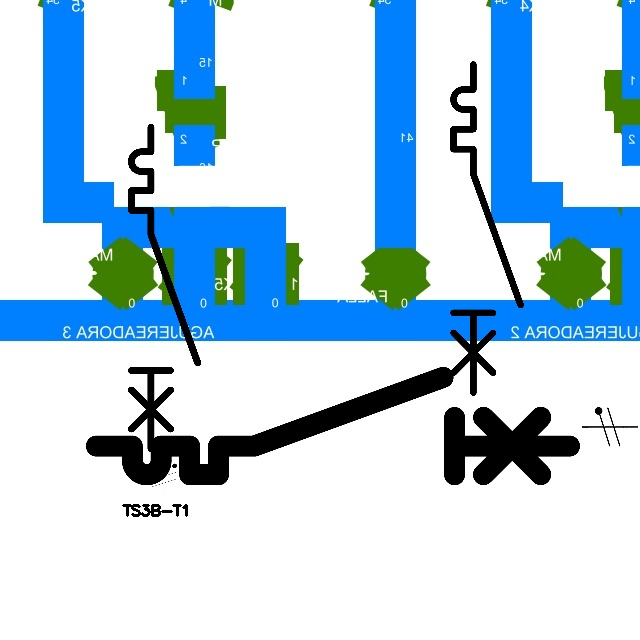interruptor_termomagnetico: (84, 365, 581, 487), (445, 56, 529, 401), (123, 119, 205, 457)
